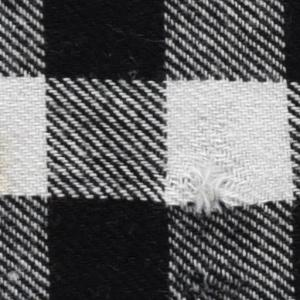Damage: (168, 116, 252, 225), (169, 265, 253, 300)
